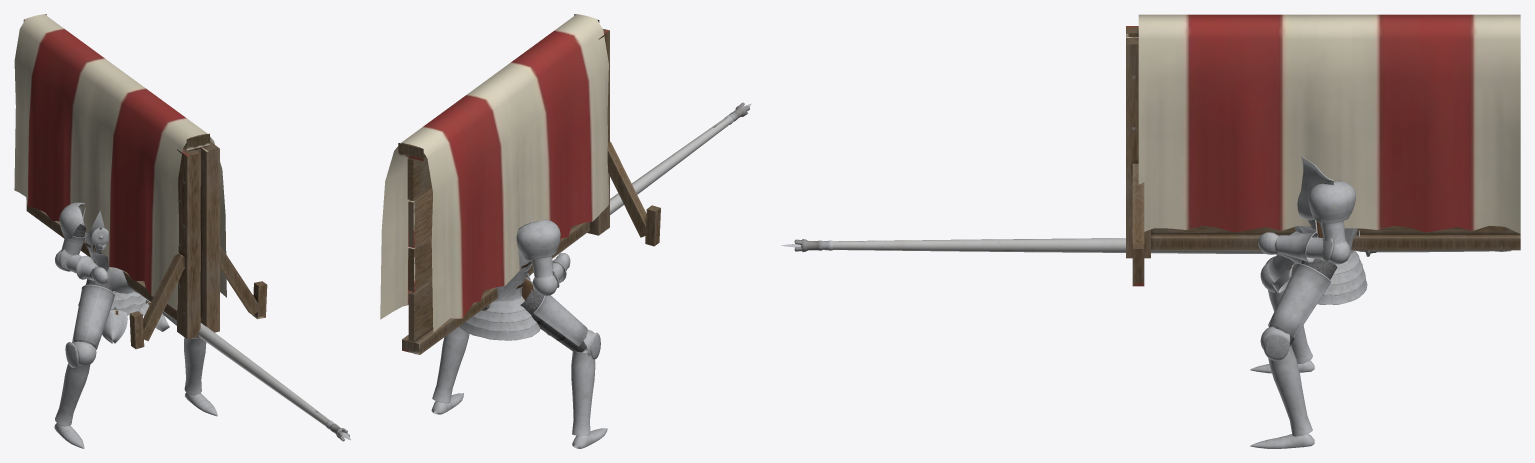
The model's file is armour_set_512.glb.
The picture shows the model from 3 angles, left to right: view 1: azimuth 30°, elevation 25°; view 2: azimuth 150°, elevation 25°; view 3: azimuth 270°, elevation 25°; orthographic projection. The views are drawn at different scales.
Parts seen in each view (by area): view 1: tilt_cloth, tilt_barrier, rider_leg_r, lance_fore, rider_leg_l, torso_arm_r, rider_fauld, torso_pauldron_r, torso_cuirass, lance_vamplate; view 2: tilt_cloth, tilt_barrier, rider_leg_r, rider_fauld, rider_leg_l, lance_fore, torso_pauldron_r, torso_arm_r, torso_cuirass; view 3: tilt_cloth, tilt_barrier, rider_leg_l, lance_fore, torso_pauldron_l, torso_arm_l, rider_fauld, rider_leg_r, lance_rear.
Boxes of the visible parts, box(x1,y1,x2,y2) form: tilt_cloth: box(14, 14, 226, 309); tilt_barrier: box(23, 14, 267, 349); rider_leg_r: box(54, 279, 114, 448); lance_fore: box(198, 323, 329, 426); rider_leg_l: box(163, 312, 217, 416); torso_arm_r: box(55, 224, 108, 284); rider_fauld: box(78, 284, 169, 343); torso_pauldron_r: box(59, 202, 108, 245); torso_cuirass: box(82, 207, 109, 271); lance_vamplate: box(107, 267, 137, 293); tilt_cloth: box(380, 14, 608, 332); tilt_barrier: box(398, 14, 660, 354); rider_leg_r: box(520, 289, 607, 448); rider_fauld: box(459, 296, 549, 340); rider_leg_l: box(431, 326, 469, 414); lance_fore: box(610, 117, 730, 214); torso_pauldron_r: box(516, 219, 560, 260); torso_arm_r: box(531, 253, 570, 295); torso_cuirass: box(499, 216, 532, 301); tilt_cloth: box(1138, 14, 1520, 233); tilt_barrier: box(1126, 26, 1520, 286); rider_leg_l: box(1250, 259, 1337, 448); lance_fore: box(832, 238, 1125, 252); torso_pauldron_l: box(1297, 157, 1355, 223); torso_arm_l: box(1258, 221, 1350, 264); rider_fauld: box(1272, 250, 1367, 304); rider_leg_r: box(1250, 255, 1314, 373); lance_rear: box(1151, 250, 1511, 253).
Bounding box in the file's own units: 1.03 × 2.25 × 3.88.
Materials: 8 (8 with a texture image).
